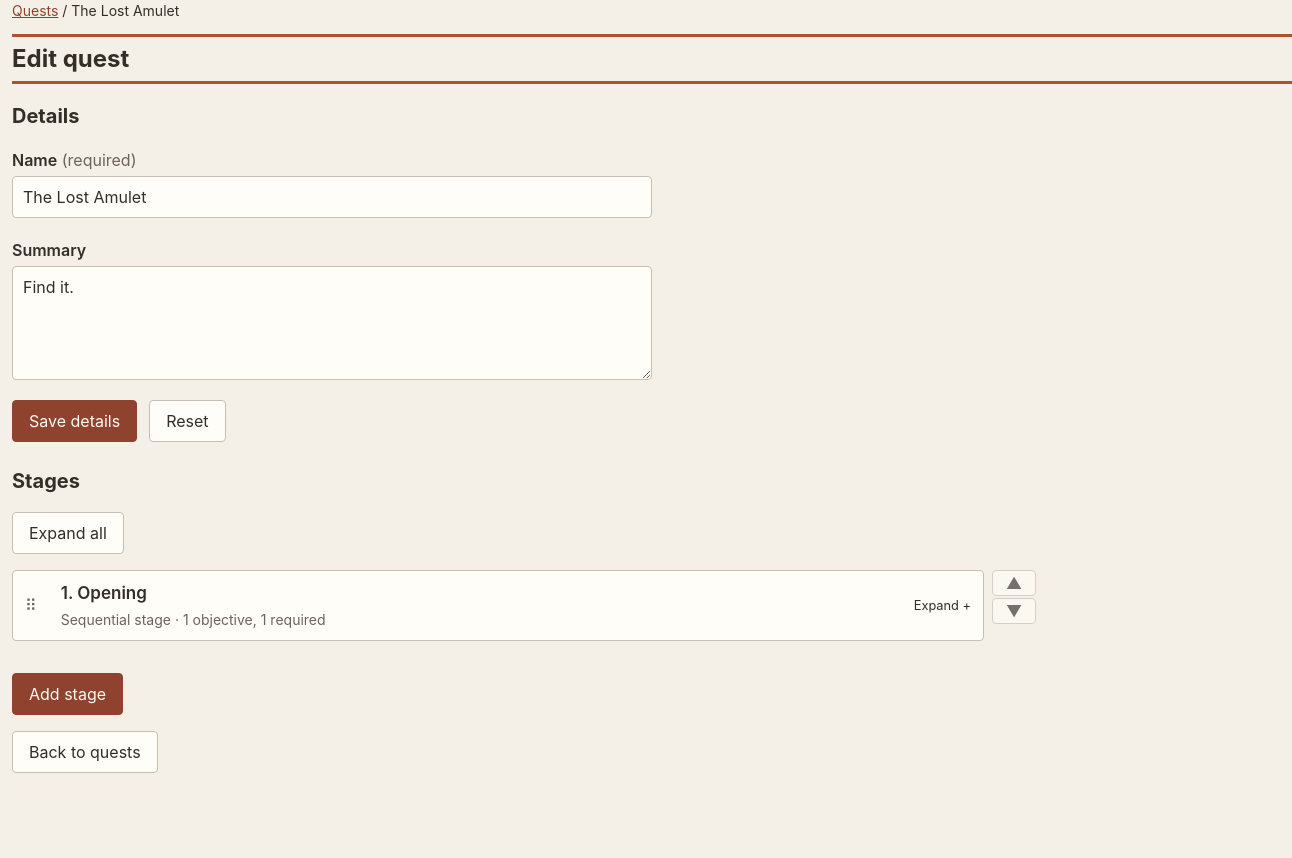
Test: EditQuestPage › validates a stage in place and keeps the panel open
The image size is (1292, 858).
Click the button "Add stage": (68, 694) [12, 673, 123, 715]
(page scrolled)
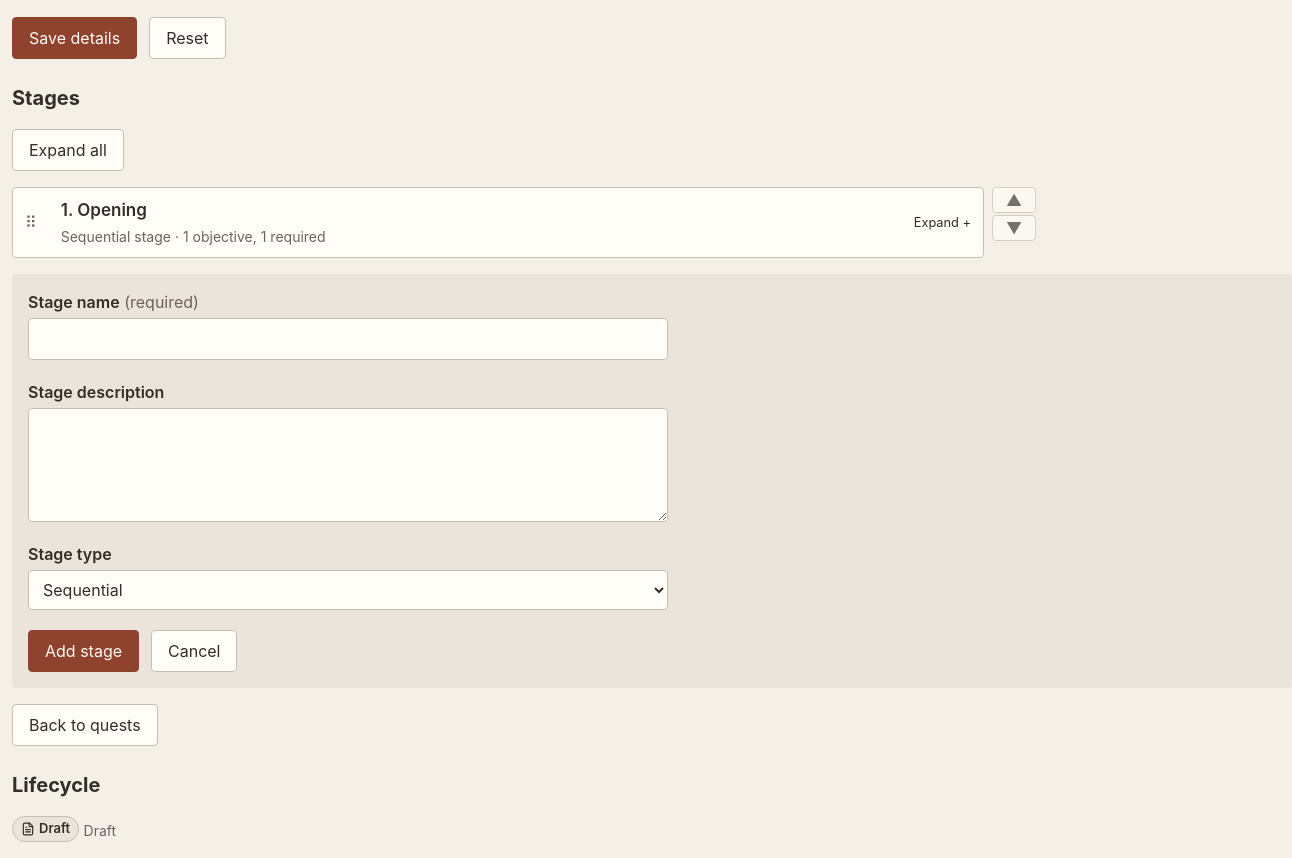
Click the button "Add stage": (84, 651) [28, 630, 139, 672]
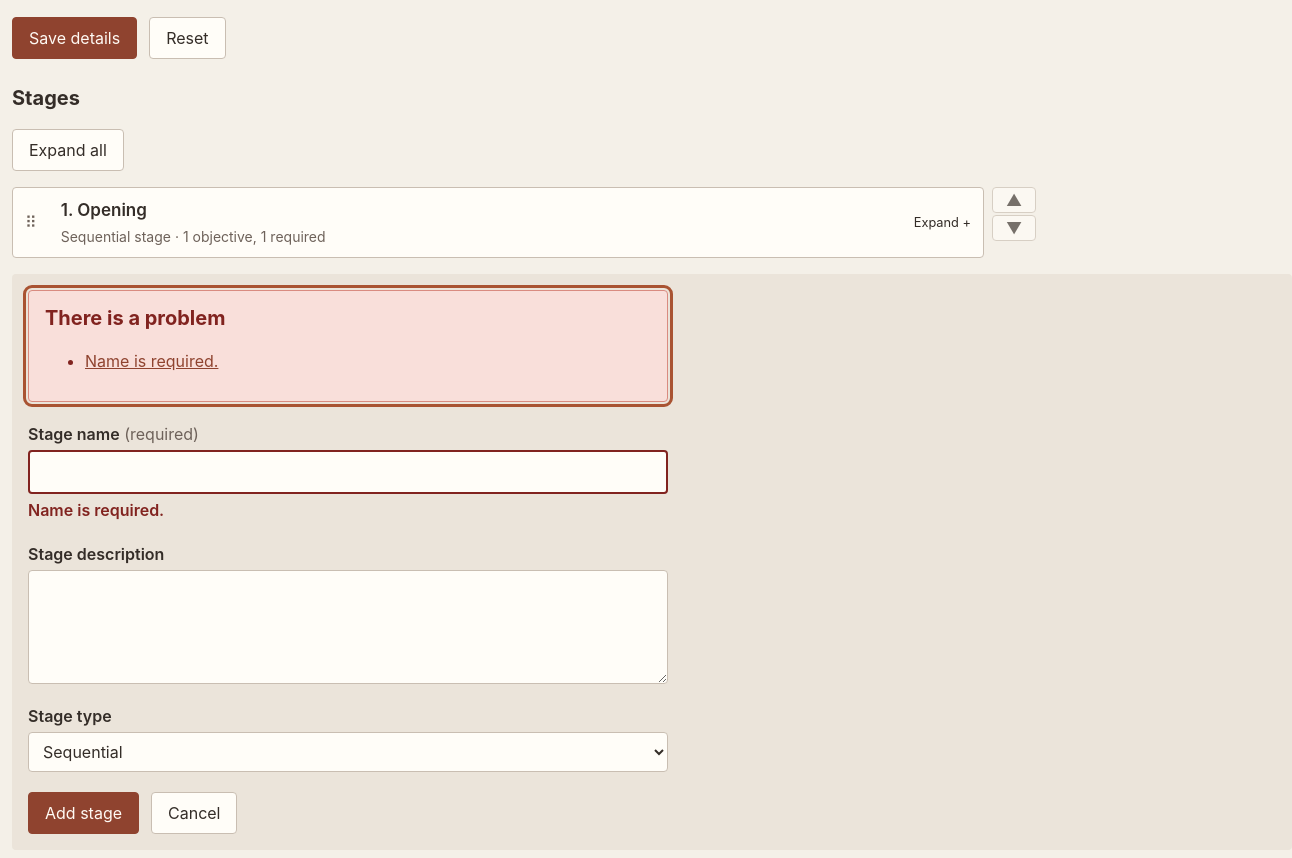
Check: the form named "New stage" is shown, box [28, 290, 668, 834]
Check: the message shows "Name is required.", box [85, 351, 218, 371]
